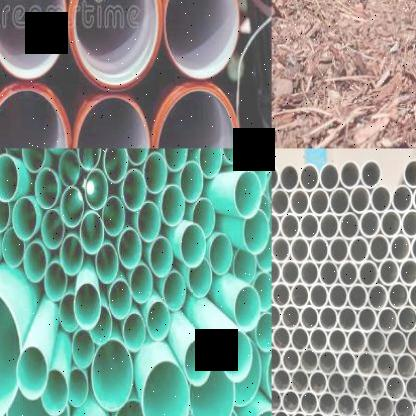pipe: (69, 0, 162, 90), (164, 0, 239, 80), (152, 83, 240, 148), (0, 0, 66, 80), (0, 83, 71, 148), (76, 95, 149, 148), (91, 339, 134, 411), (141, 359, 190, 416), (0, 284, 21, 416), (188, 356, 234, 416), (6, 387, 70, 416), (17, 345, 48, 399), (223, 331, 252, 382), (234, 171, 262, 219), (184, 339, 212, 386), (41, 368, 68, 416), (74, 283, 101, 330), (243, 209, 270, 254), (234, 285, 261, 330), (180, 223, 206, 268), (12, 196, 36, 241), (80, 210, 104, 254), (180, 160, 203, 203), (161, 185, 185, 226), (208, 234, 232, 275), (188, 257, 212, 298), (146, 301, 170, 342), (35, 168, 58, 210), (85, 169, 108, 211), (192, 198, 216, 238), (123, 170, 146, 211), (118, 228, 141, 269), (95, 243, 118, 284), (162, 272, 186, 311), (144, 152, 166, 194), (60, 187, 83, 227), (102, 196, 125, 236), (60, 235, 83, 275), (150, 237, 173, 277), (123, 312, 146, 352), (138, 201, 160, 242), (24, 243, 47, 282), (72, 329, 95, 368), (42, 209, 64, 249), (90, 305, 112, 345), (44, 262, 67, 300), (0, 154, 18, 202), (130, 264, 152, 303), (109, 280, 131, 319), (3, 228, 24, 268), (103, 148, 127, 183), (58, 150, 80, 187), (252, 272, 272, 312), (59, 293, 79, 332), (68, 368, 88, 407), (111, 398, 154, 416), (234, 249, 256, 284), (199, 148, 222, 178), (256, 230, 272, 272), (368, 233, 390, 263), (370, 184, 392, 214), (380, 208, 402, 238), (256, 311, 272, 351), (376, 305, 398, 334), (390, 233, 411, 263), (340, 159, 361, 189), (350, 184, 371, 214), (378, 258, 400, 286), (361, 159, 382, 188), (319, 162, 340, 191), (349, 235, 369, 265), (300, 162, 320, 192), (358, 259, 379, 287), (388, 282, 409, 310), (367, 283, 388, 311), (386, 329, 407, 357), (395, 352, 416, 380), (392, 184, 412, 213), (330, 187, 350, 216), (310, 187, 330, 216), (360, 209, 380, 238), (340, 211, 360, 240), (319, 211, 339, 240), (22, 148, 46, 172), (328, 283, 349, 310), (290, 236, 310, 264), (309, 236, 329, 264), (330, 236, 350, 264), (300, 259, 320, 287), (318, 259, 338, 287), (308, 282, 328, 310), (338, 305, 358, 333), (327, 327, 347, 355), (356, 350, 376, 378), (376, 351, 396, 379), (280, 163, 300, 191), (290, 188, 310, 216), (280, 212, 300, 240), (300, 212, 320, 240), (338, 260, 358, 287), (290, 282, 310, 309), (348, 283, 368, 310), (318, 305, 338, 332), (357, 306, 377, 333), (347, 328, 367, 355), (366, 329, 386, 356), (346, 371, 366, 398), (77, 148, 100, 171), (164, 148, 186, 172), (290, 326, 310, 352), (337, 350, 357, 376), (290, 368, 310, 394), (365, 373, 385, 399), (385, 374, 405, 400), (281, 259, 300, 286), (300, 304, 319, 331), (397, 305, 416, 332), (327, 370, 346, 397), (317, 389, 336, 416), (272, 235, 290, 263), (272, 281, 290, 309), (309, 327, 328, 353), (318, 349, 337, 375), (399, 257, 416, 286), (272, 324, 290, 351), (282, 388, 300, 415), (300, 389, 318, 416), (336, 392, 356, 416), (254, 148, 272, 174), (282, 304, 300, 330), (282, 347, 300, 373), (300, 348, 318, 374), (272, 187, 288, 216), (354, 394, 375, 416), (308, 370, 327, 394), (401, 208, 416, 237), (272, 368, 290, 392), (374, 395, 394, 416), (403, 157, 416, 188), (0, 192, 10, 232), (394, 396, 414, 416), (126, 148, 148, 166), (221, 148, 245, 164), (404, 374, 416, 402), (406, 328, 416, 356), (272, 388, 282, 413), (272, 258, 280, 286), (272, 211, 280, 239), (408, 282, 416, 309), (272, 345, 280, 372), (272, 303, 280, 329), (0, 148, 7, 175), (410, 233, 416, 262), (272, 163, 278, 191), (272, 409, 290, 416), (412, 184, 416, 213), (290, 410, 308, 416), (308, 411, 327, 416), (326, 412, 345, 416)
